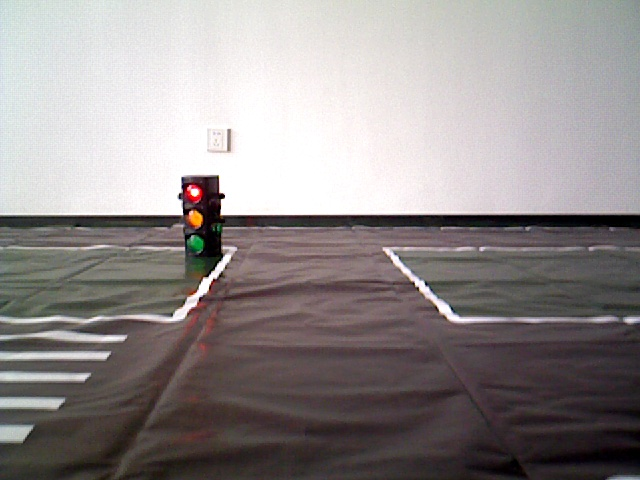red: (184, 176, 221, 256)
